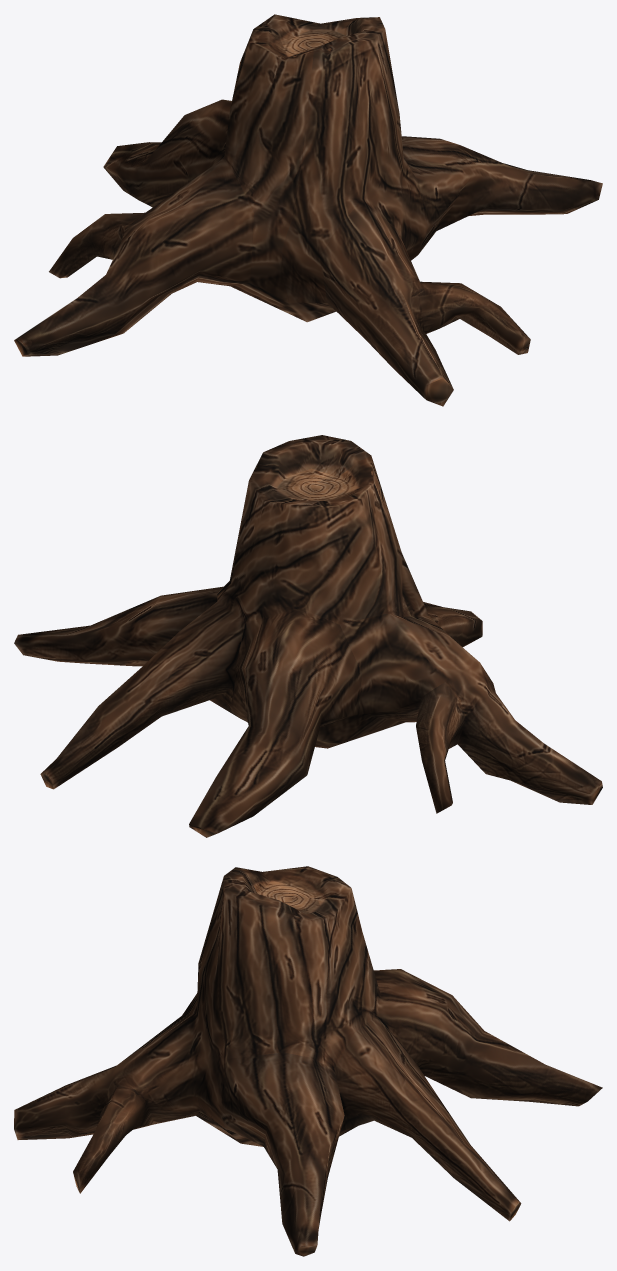
The model's file is TreeStump.FBX.
3 views of the same model, one above another, from view 1: azimuth 30°, elevation 25°; view 2: azimuth 150°, elevation 25°; view 3: azimuth 270°, elevation 25° (orthographic). The views are drawn at different scales.
Visible parts, largest first — view 1: default; view 2: default; view 3: default.
Boxes of the visible parts, <box> form: default: <box>14,14,602,406</box>; default: <box>14,435,602,837</box>; default: <box>14,866,602,1256</box>.
Bounding box in the file's own units: 5.6 × 2.58 × 5.05.
